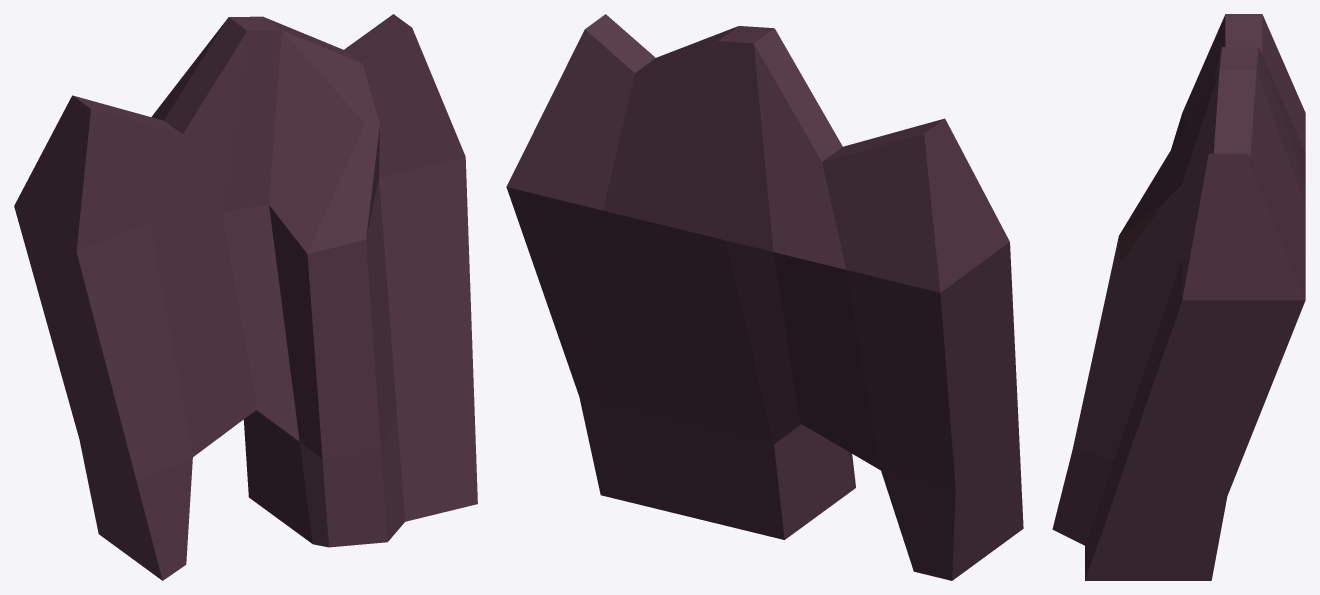
Rendered from shitrockhole.fbx.
3 views of the same model, side by side, from view 1: azimuth 30°, elevation 25°; view 2: azimuth 150°, elevation 25°; view 3: azimuth 270°, elevation 25° (orthographic). The views are drawn at different scales.
Parts seen in each view (by area): view 1: shitrockhole; view 2: shitrockhole; view 3: shitrockhole.
Part boxes in pixels (x1,y1,x2,y2): shitrockhole: [14, 14, 477, 580]; shitrockhole: [506, 14, 1023, 580]; shitrockhole: [1052, 14, 1305, 580].
Size of the model in its own units: 3350 by 3799 by 1911.
